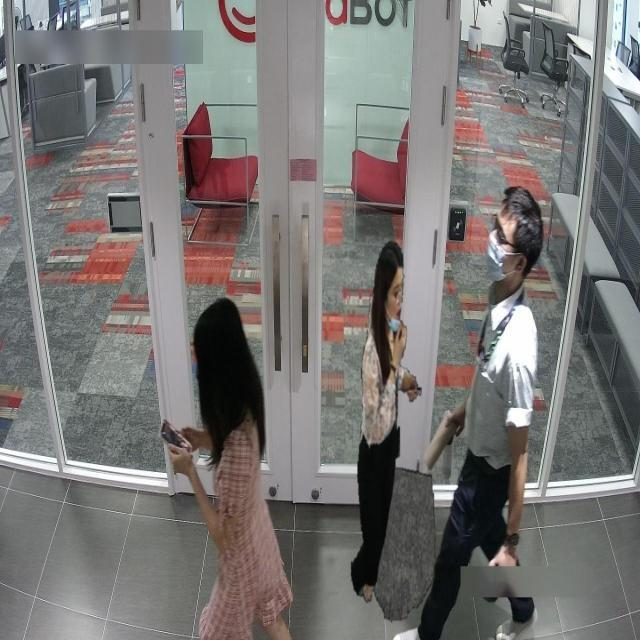hairnet: (384, 272, 404, 330)
